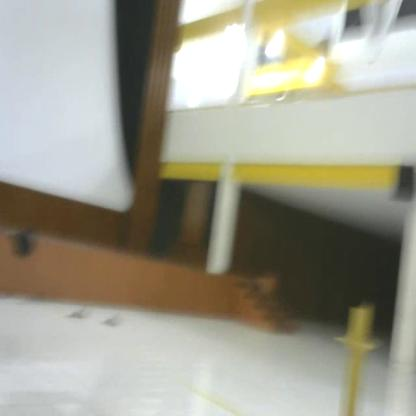pole: (330, 301, 383, 416)
